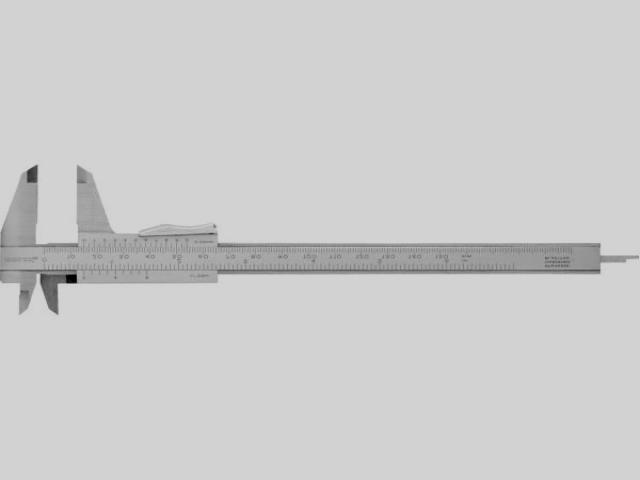Calipers: (0, 166, 639, 315)
